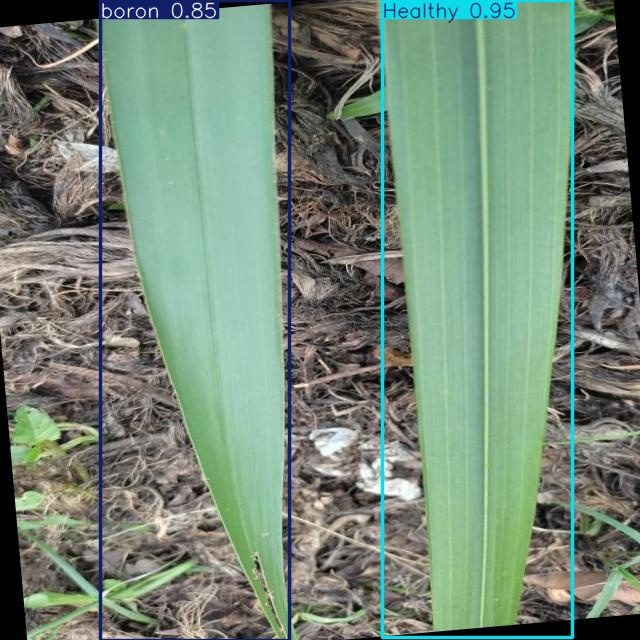Healthy: (383, 0, 573, 638)
nitrogen: (101, 1, 290, 640)
